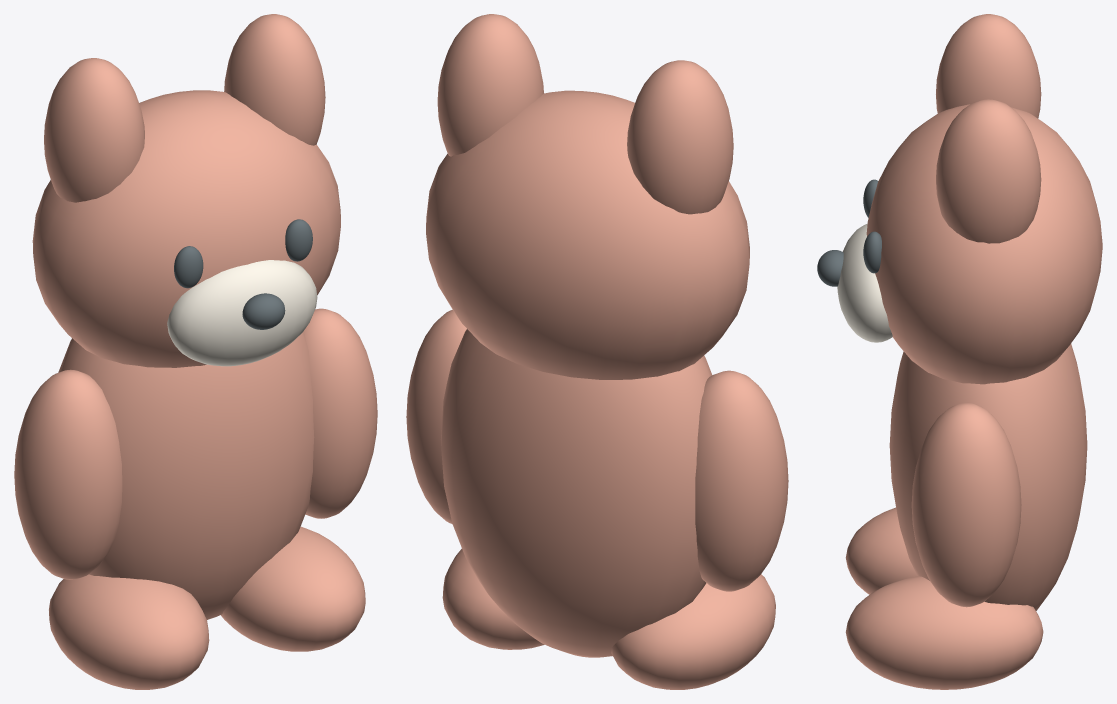
File: ComfortFox.fbx
The picture shows the model from 3 angles, left to right: view 1: azimuth 30°, elevation 25°; view 2: azimuth 150°, elevation 25°; view 3: azimuth 270°, elevation 25°; orthographic projection. The views are drawn at different scales.
Visible parts, largest first — view 1: Head, Body, Paw, Foot, Foot.001, Paw.001, Ear, Muzzle, Ear.001, Nose, Eye, Eye.001; view 2: Head, Body, Paw, Ear, Foot, Ear.001, Paw.001, Foot.001; view 3: Head, Body, Paw.001, Foot.001, Ear.001, Ear, Foot, Muzzle, Nose, Eye.001.
Part boxes in pixels (<box>): Head: <box>32,90,340,367</box>; Body: <box>58,331,314,619</box>; Paw: <box>14,369,122,579</box>; Foot: <box>49,574,209,689</box>; Foot.001: <box>221,526,365,651</box>; Paw.001: <box>304,308,377,518</box>; Ear: <box>44,58,144,202</box>; Muzzle: <box>167,260,317,366</box>; Ear.001: <box>224,14,325,145</box>; Nose: <box>242,293,285,329</box>; Eye: <box>174,246,203,288</box>; Eye.001: <box>285,219,312,261</box>; Head: <box>426,90,749,379</box>; Body: <box>441,329,711,657</box>; Paw: <box>695,370,788,591</box>; Ear: <box>627,60,733,214</box>; Foot: <box>611,574,775,689</box>; Ear.001: <box>437,14,543,156</box>; Paw.001: <box>406,310,466,523</box>; Foot.001: <box>442,548,544,649</box>; Head: <box>866,104,1102,384</box>; Body: <box>889,343,1087,610</box>; Paw.001: <box>911,402,1021,607</box>; Foot.001: <box>845,576,1043,689</box>; Ear.001: <box>936,99,1041,243</box>; Ear: <box>936,14,1041,118</box>; Foot: <box>845,507,917,594</box>; Muzzle: <box>837,223,892,342</box>; Nose: <box>817,250,843,286</box>; Eye.001: <box>863,231,881,273</box>.
Bounding box in the file's own units: 17.8 × 29.4 × 13.
